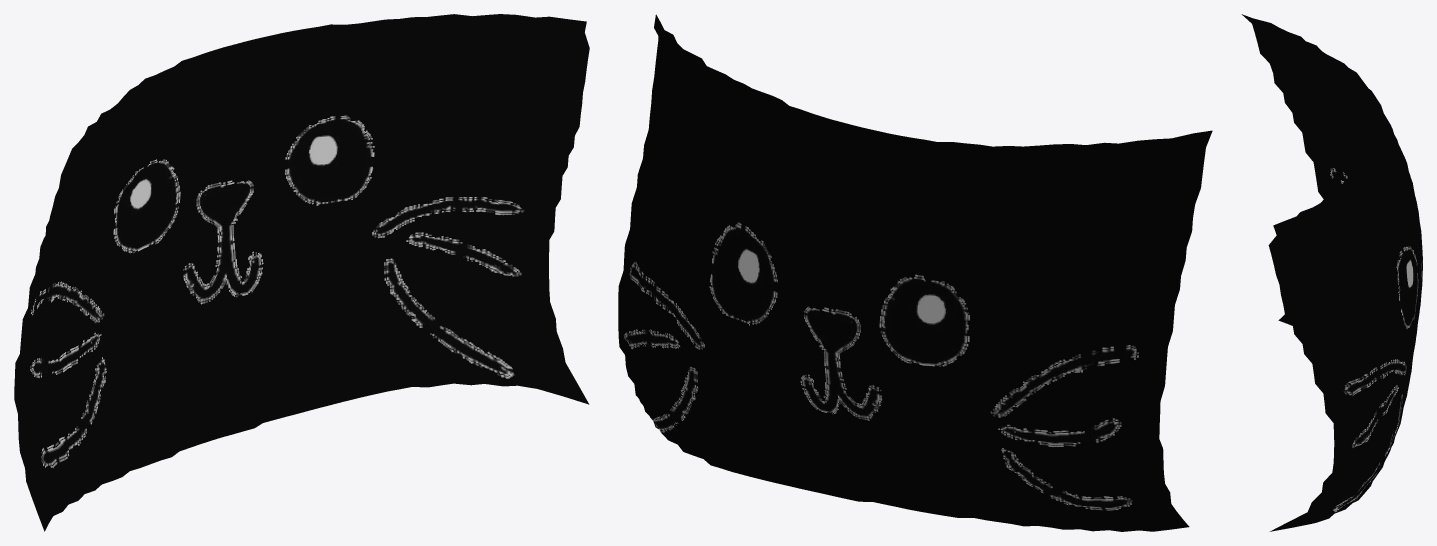
The model's file is cara_1.glb.
3 views of the same model, side by side, from view 1: azimuth 30°, elevation 25°; view 2: azimuth 150°, elevation 25°; view 3: azimuth 270°, elevation 25° (orthographic). The views are drawn at different scales.
Size of the model in its own units: 0.8 by 0.5406 by 0.2904.
Materials: 1 (1 with a texture image).
